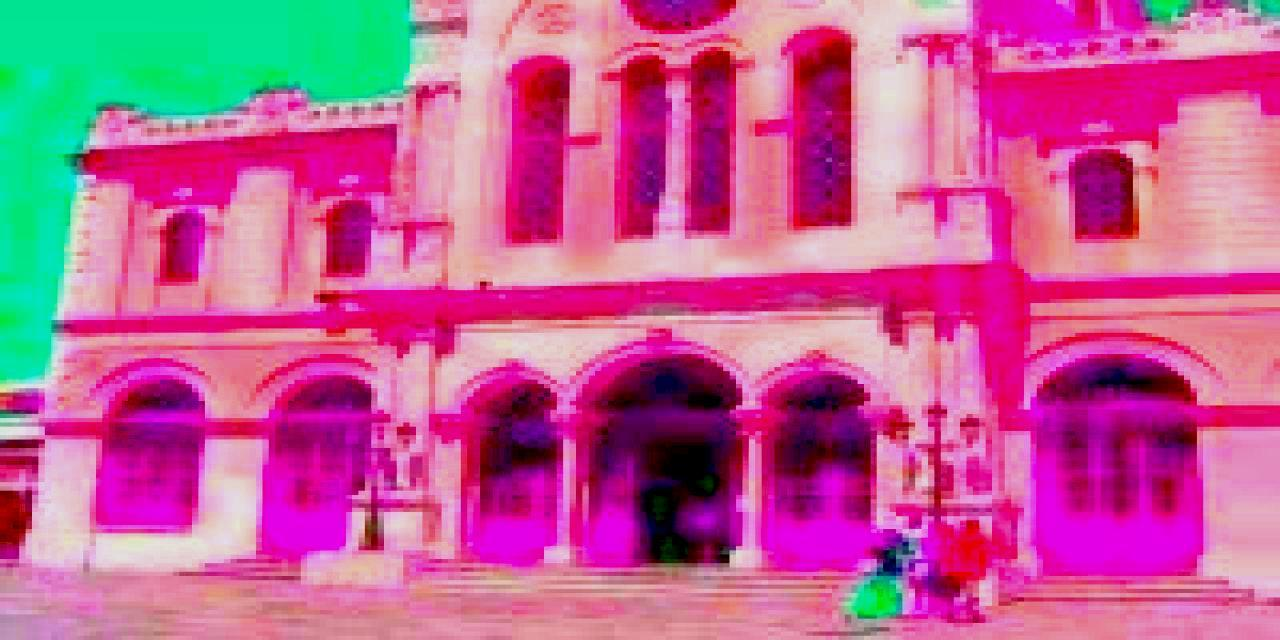Agios Minas: (22, 11, 1280, 599)
